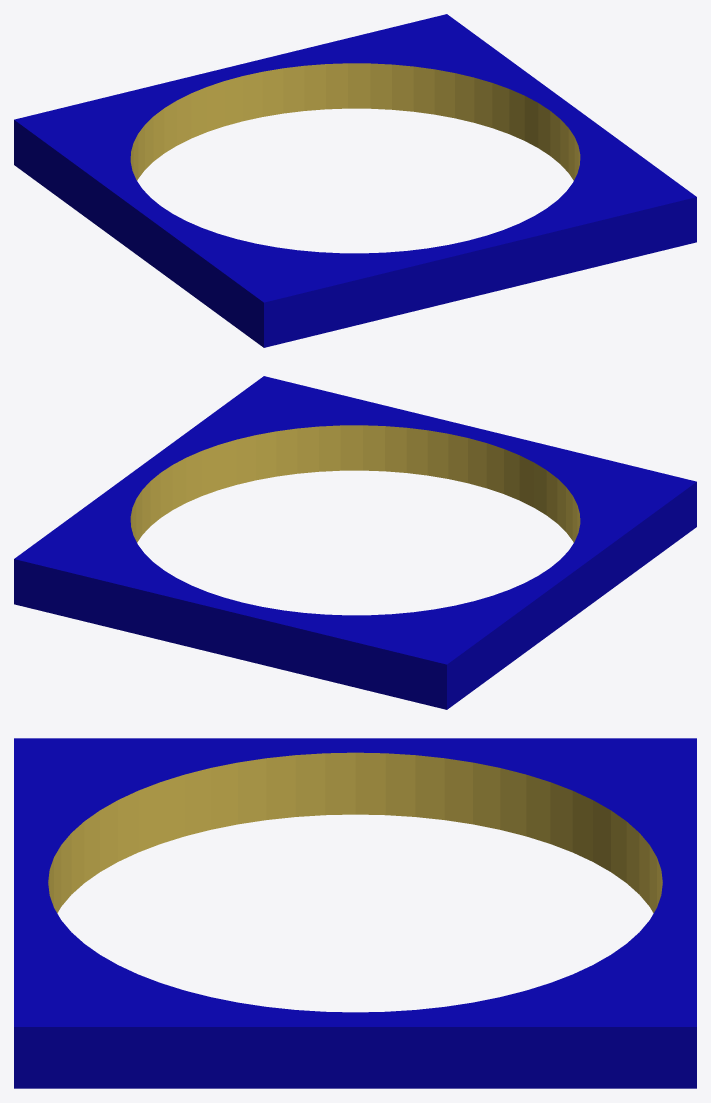
Rendered from Face_Circ_Int.glb.
3 views of the same model, one above another, from view 1: azimuth 30°, elevation 25°; view 2: azimuth 150°, elevation 25°; view 3: azimuth 270°, elevation 25° (orthographic). The views are drawn at different scales.
Visible parts, largest first — view 1: Face_Circ_Int; view 2: Face_Circ_Int; view 3: Face_Circ_Int.
Part boxes in pixels (bbox=[...]): Face_Circ_Int: bbox=[14, 14, 696, 347]; Face_Circ_Int: bbox=[14, 376, 696, 709]; Face_Circ_Int: bbox=[14, 738, 696, 1088].
Bounding box in the file's own units: 2 × 0.2 × 2.
